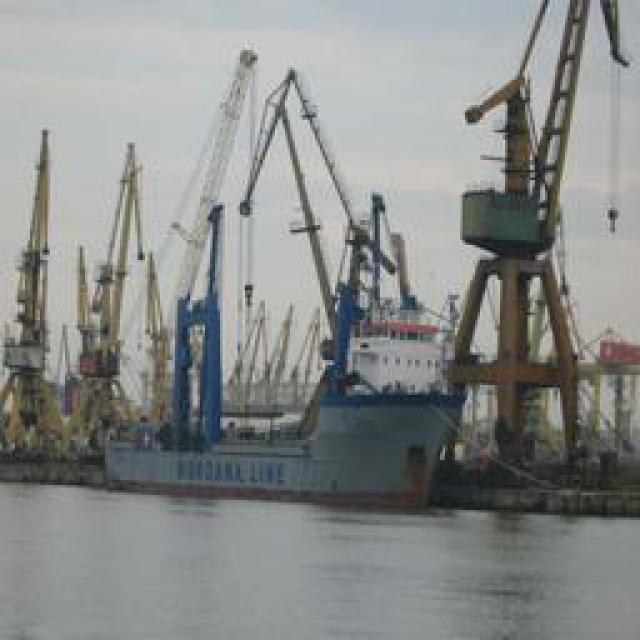Ship: (94, 51, 479, 496)
